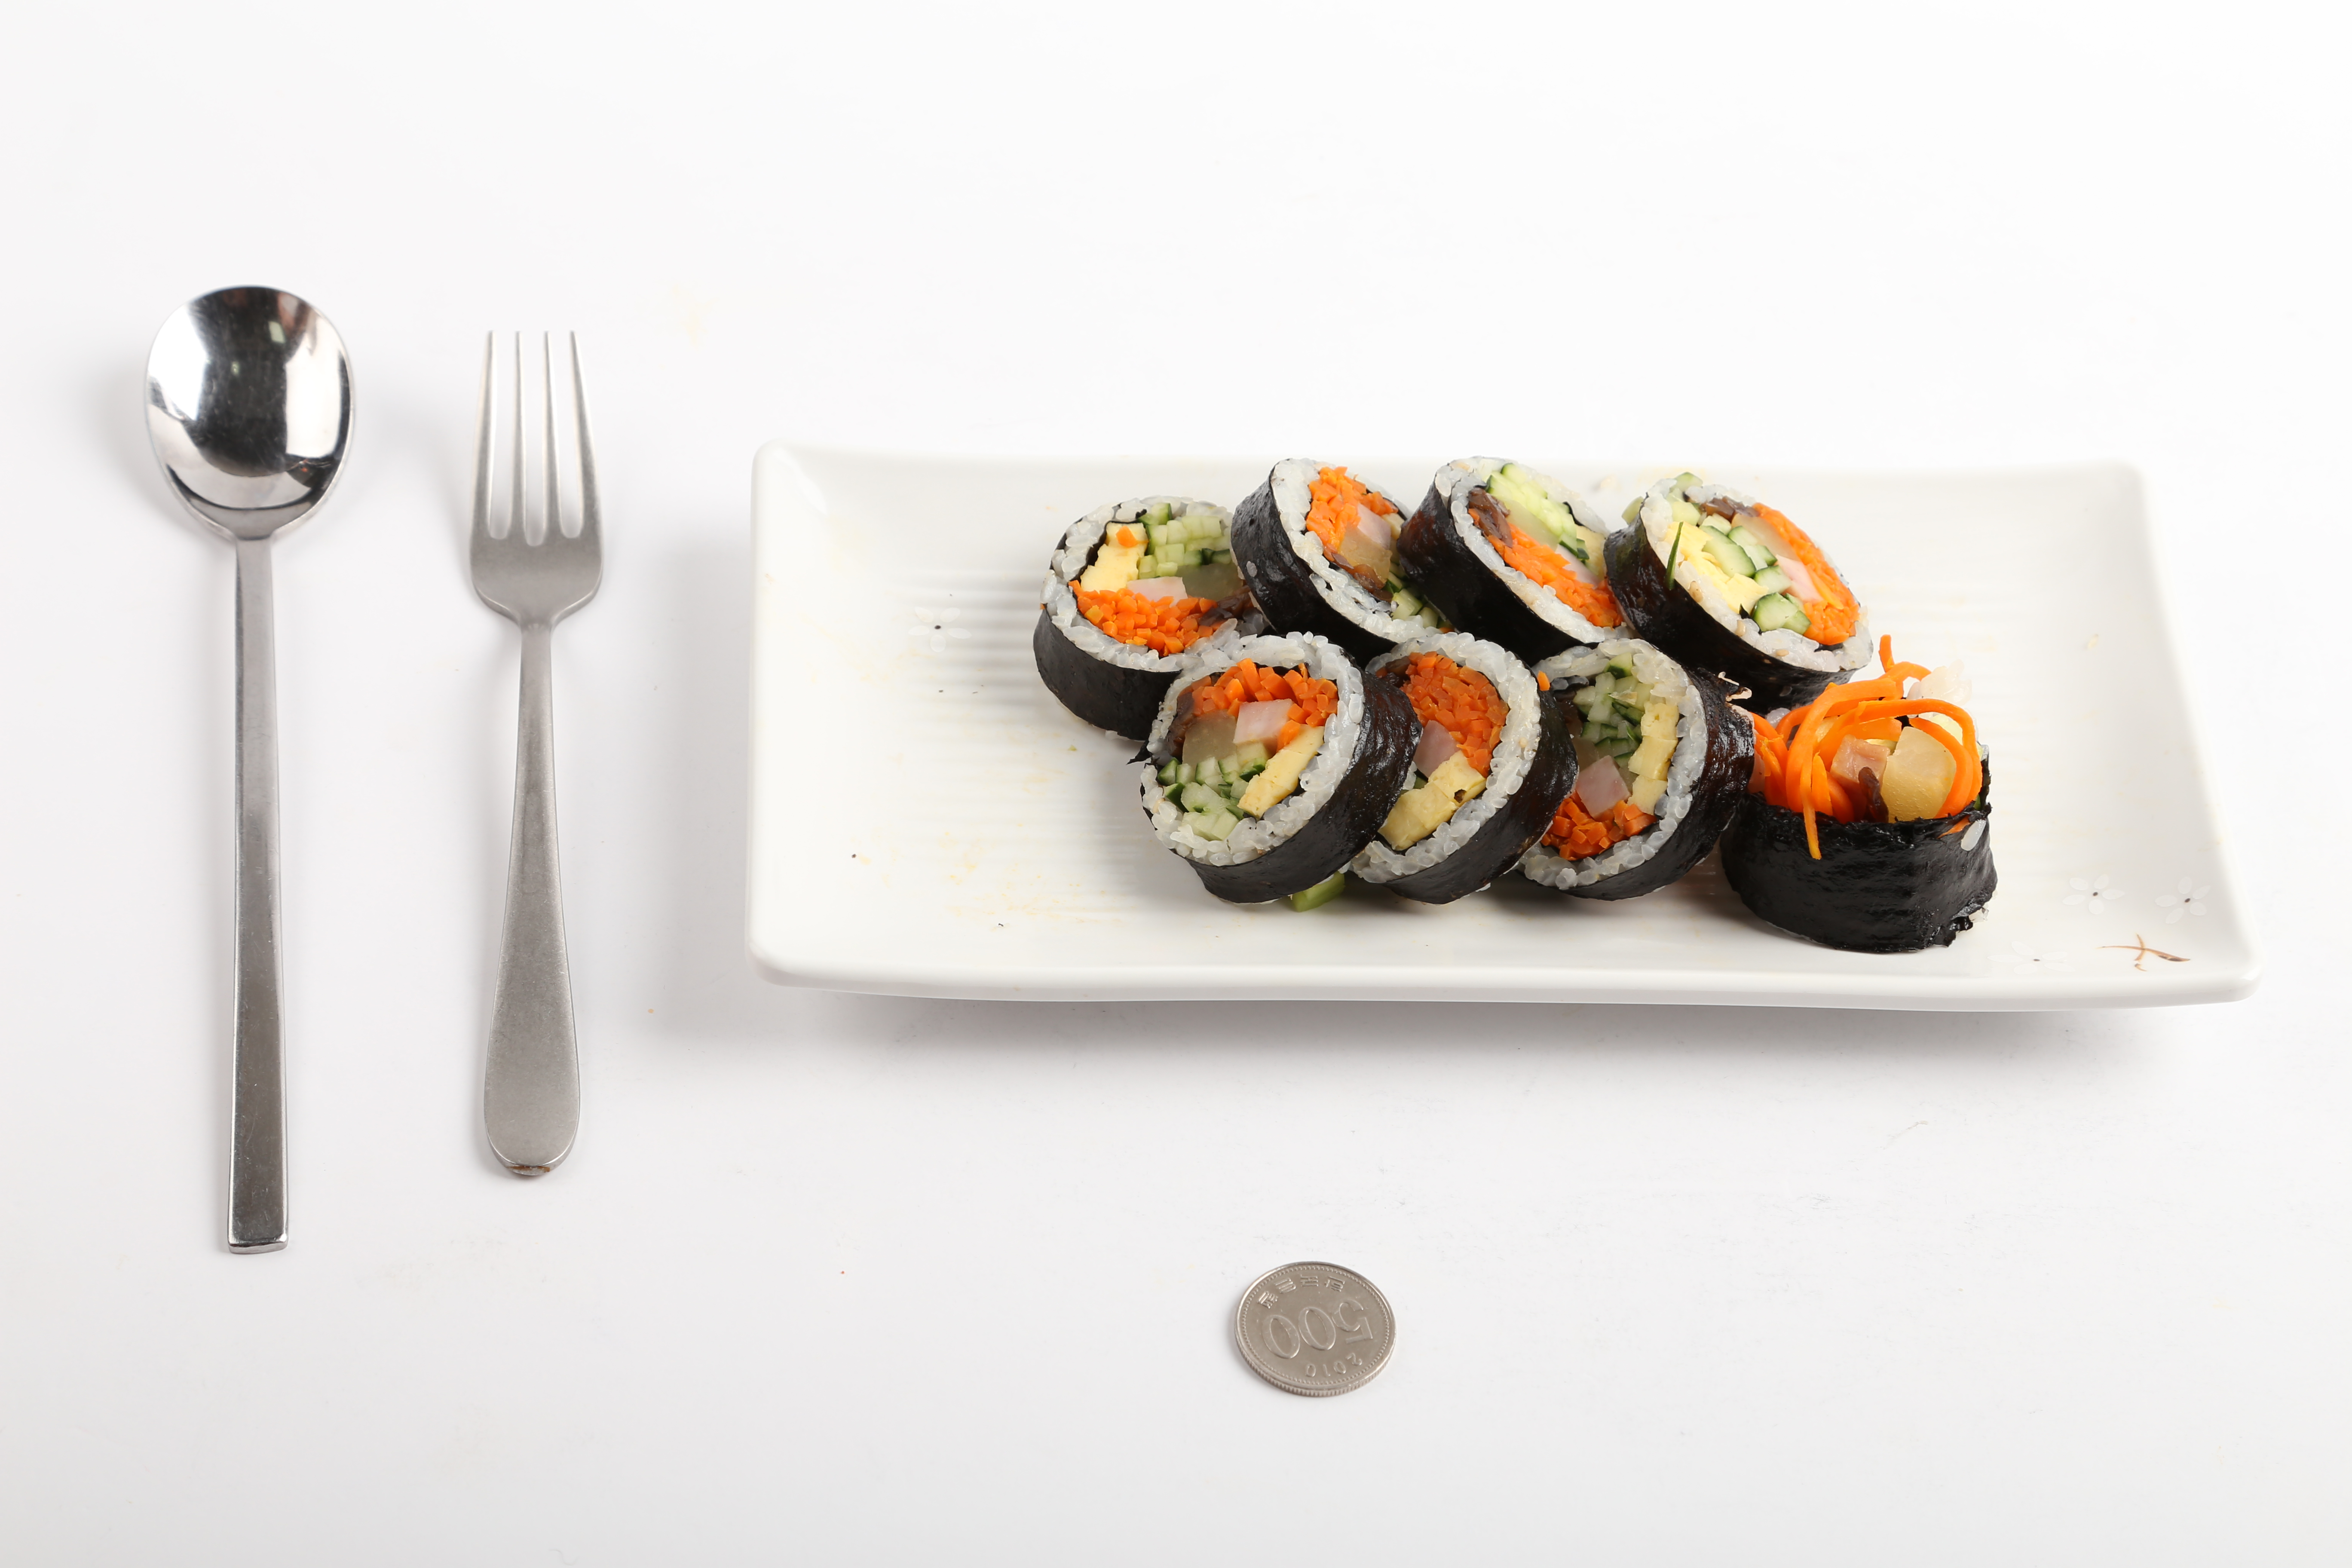dish: (740, 434, 2263, 1013)
ref_coin: (1228, 1246, 1403, 1407)
ref_fork: (464, 322, 607, 677)
ref_spoon: (138, 278, 355, 597)
김밥: (1031, 460, 1997, 955)
